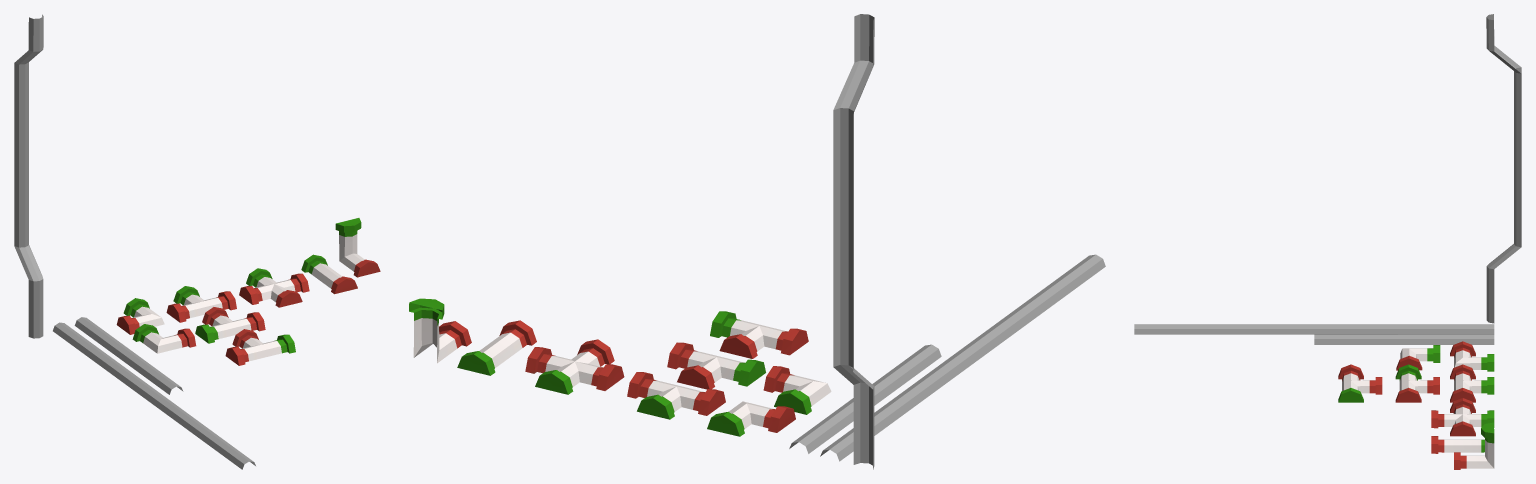
Rendered from Asset_Cables.fbx.
The picture shows the model from 3 angles, left to right: view 1: azimuth 30°, elevation 25°; view 2: azimuth 150°, elevation 25°; view 3: azimuth 270°, elevation 25°; orthographic projection. The views are drawn at different scales.
Visible parts, largest first — view 1: Asset_Cable_VerticalPared, Asset_Cable_HorizontalLargo, Asset_ConexionCable_4, Asset_Cable_HorizontalCorto, Asset_ConexionCable_v3T, Asset_ConexionCable_v2T, Asset_ConexionCable_T, Aset_ConexionCable_LPared, Asset_ConexionCable_v2L, Asset_ConexionCable_I, Asset_ConexionCable_L; view 2: Asset_Cable_VerticalPared, Asset_Cable_HorizontalLargo, Asset_ConexionCable_4, Asset_Cable_HorizontalCorto, Asset_ConexionCable_v3T, Asset_ConexionCable_v2T, Asset_ConexionCable_T, Aset_ConexionCable_LPared, Asset_ConexionCable_I, Asset_ConexionCable_L, Asset_ConexionCable_v2L; view 3: Asset_Cable_HorizontalLargo, Asset_Cable_VerticalPared, Asset_Cable_HorizontalCorto, Asset_ConexionCable_4, Asset_ConexionCable_v2T, Asset_ConexionCable_v3T, Asset_ConexionCable_T, Aset_ConexionCable_LPared, Asset_ConexionCable_L, Asset_ConexionCable_I, Asset_ConexionCable_v2L.
Part boxes in pixels (x1,y1,x2,y2): Asset_Cable_VerticalPared: [14, 14, 43, 338]; Asset_Cable_HorizontalLargo: [53, 322, 255, 469]; Asset_ConexionCable_4: [239, 268, 309, 307]; Asset_Cable_HorizontalCorto: [74, 317, 183, 394]; Asset_ConexionCable_v3T: [225, 329, 295, 365]; Asset_ConexionCable_v2T: [195, 307, 265, 343]; Asset_ConexionCable_T: [166, 286, 236, 322]; Aset_ConexionCable_LPared: [335, 218, 380, 277]; Asset_ConexionCable_v2L: [132, 324, 196, 353]; Asset_ConexionCable_I: [301, 254, 357, 294]; Asset_ConexionCable_L: [116, 298, 164, 334]; Asset_Cable_VerticalPared: [833, 14, 874, 469]; Asset_Cable_HorizontalLargo: [820, 254, 1105, 461]; Asset_ConexionCable_4: [525, 339, 624, 394]; Asset_Cable_HorizontalCorto: [789, 344, 941, 453]; Asset_ConexionCable_v3T: [710, 311, 808, 358]; Asset_ConexionCable_v2T: [667, 342, 765, 389]; Asset_ConexionCable_T: [627, 372, 725, 419]; Aset_ConexionCable_LPared: [409, 298, 471, 363]; Asset_ConexionCable_I: [457, 320, 536, 375]; Asset_ConexionCable_L: [707, 401, 795, 436]; Asset_ConexionCable_v2L: [763, 366, 831, 414]; Asset_Cable_HorizontalLargo: [1134, 324, 1494, 334]; Asset_Cable_VerticalPared: [1486, 14, 1521, 323]; Asset_Cable_HorizontalCorto: [1314, 334, 1494, 344]; Asset_ConexionCable_4: [1431, 398, 1494, 436]; Asset_ConexionCable_v2T: [1395, 364, 1439, 402]; Asset_ConexionCable_v3T: [1338, 364, 1382, 402]; Asset_ConexionCable_T: [1450, 364, 1494, 402]; Aset_ConexionCable_LPared: [1454, 422, 1494, 469]; Asset_ConexionCable_L: [1450, 341, 1494, 371]; Asset_ConexionCable_I: [1431, 436, 1484, 453]; Asset_ConexionCable_v2L: [1396, 345, 1440, 370].
Size of the model in its own units: 1.01 by 0.93 by 1.08.
